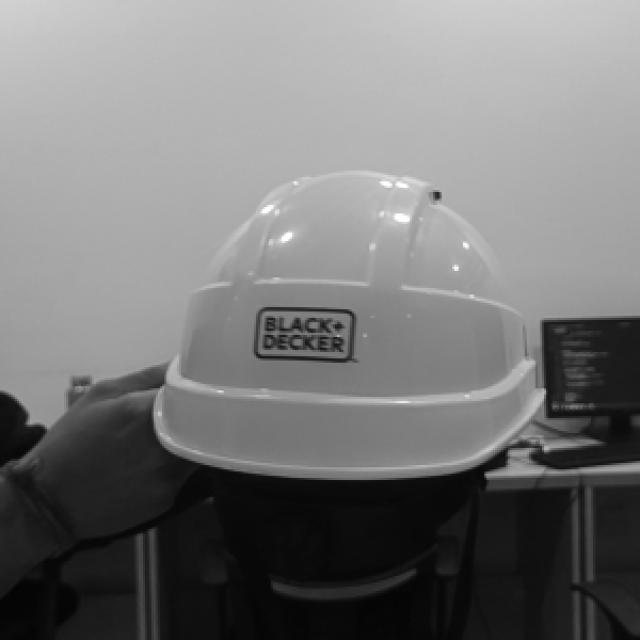safety_helmet: (154, 170, 546, 479)
